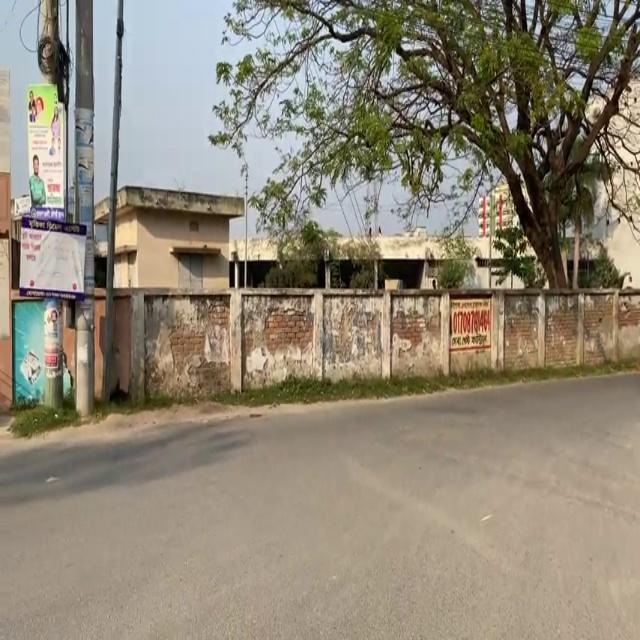Construction-barrier: (6, 366, 639, 444)
Garbage-bin: (28, 154, 46, 206)
Light-pole: (72, 0, 96, 417), (101, 0, 125, 403)
Traffic-light: (16, 285, 638, 406)
